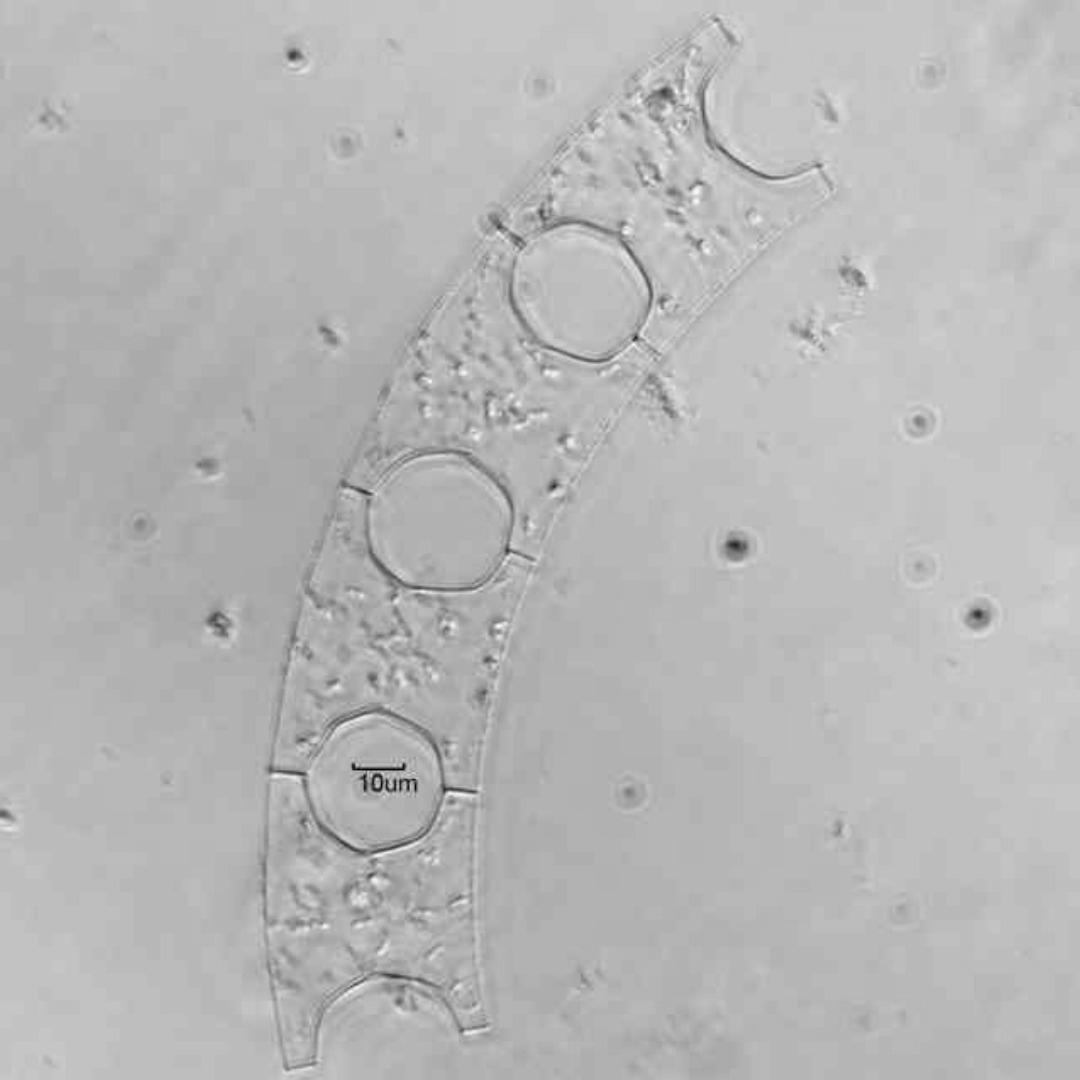eucampia_zodiacus: (262, 19, 836, 1071)
